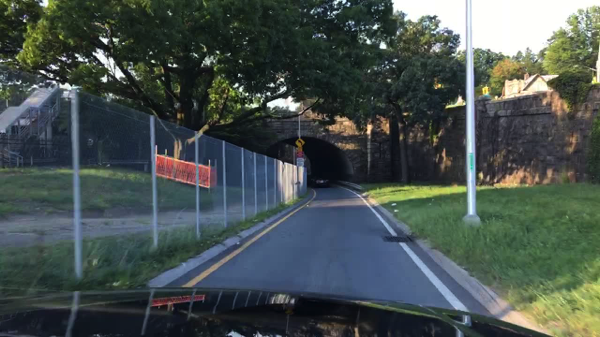car: (312, 176, 330, 188), (306, 174, 313, 185)
traffic light: (480, 87, 491, 97)
traffic sign: (295, 138, 304, 147), (296, 147, 304, 157), (296, 158, 305, 166)
